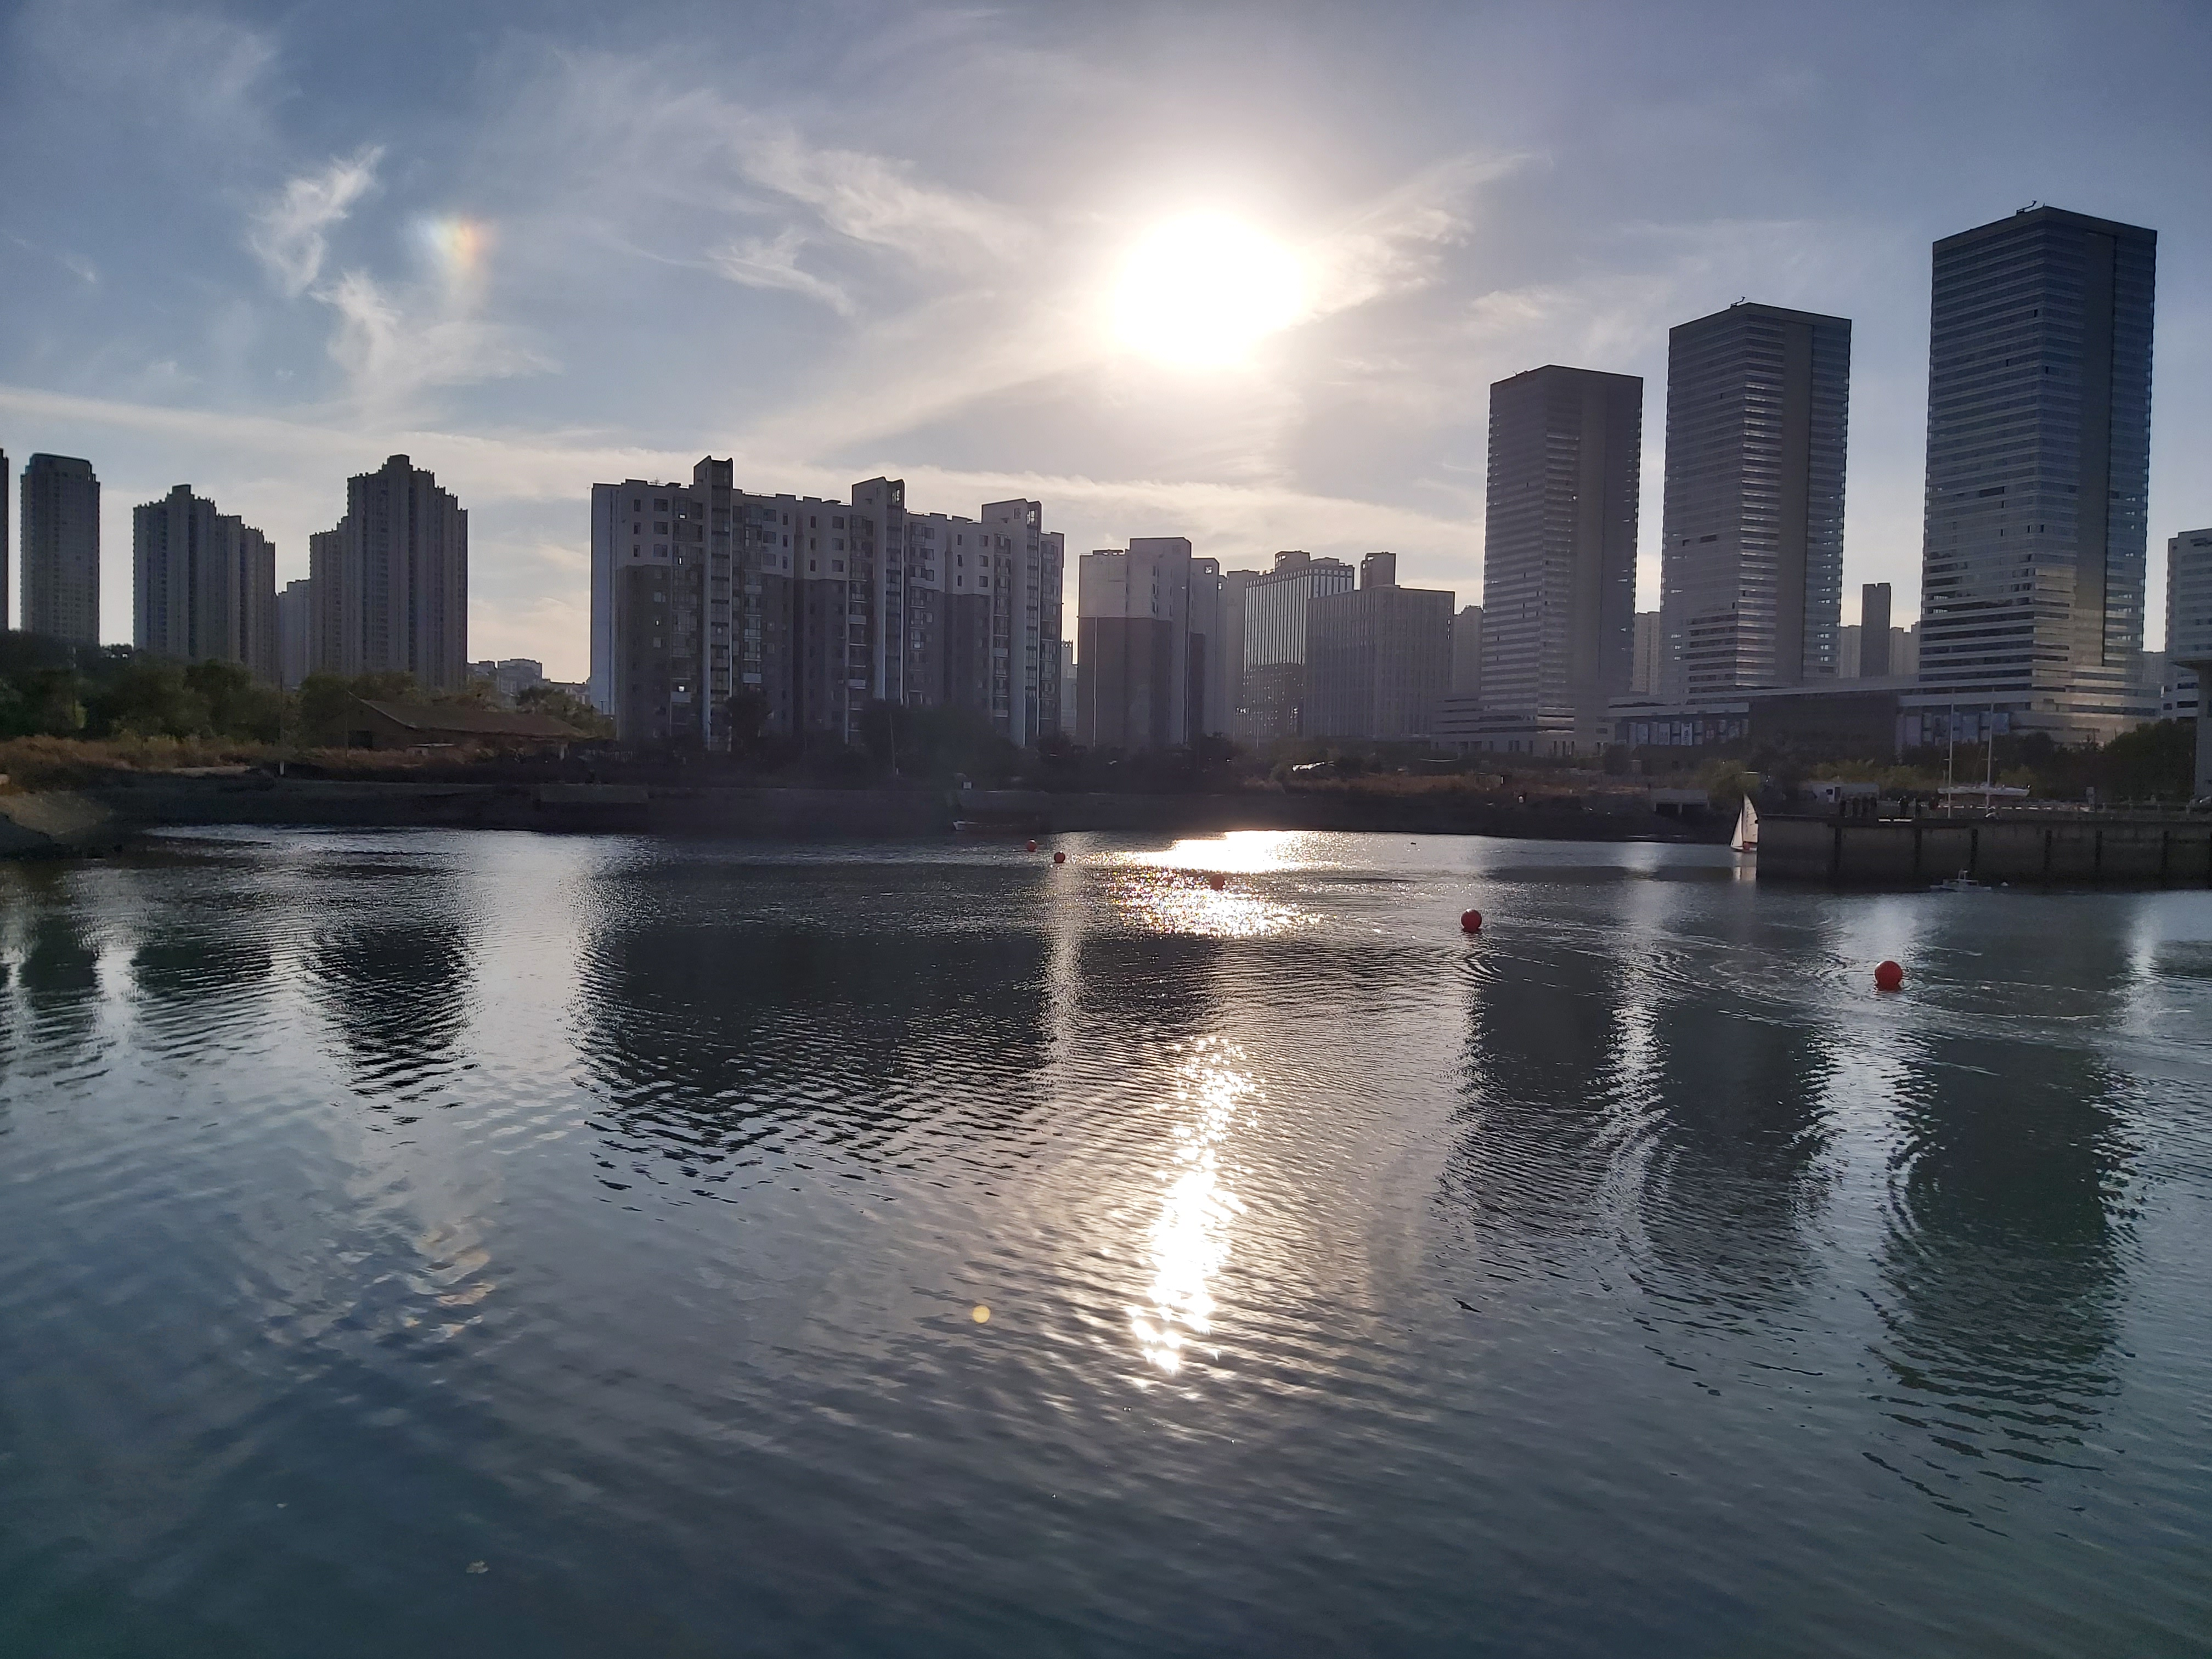ball: (1871, 955, 1907, 993), (1460, 899, 1487, 936)
